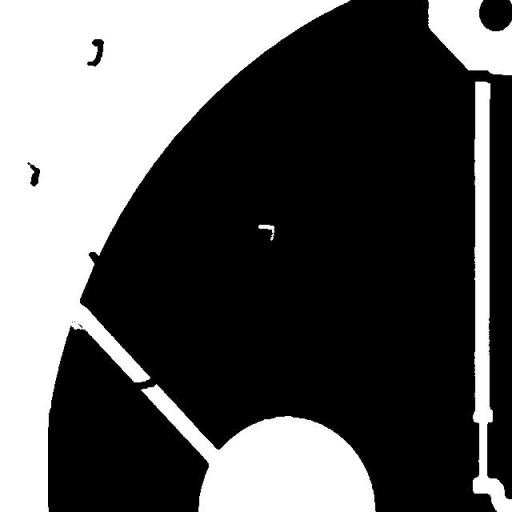copper: (79, 31, 111, 74), (19, 154, 47, 194)
mousebite: (62, 310, 92, 336)
pin-hole: (250, 217, 282, 248)
short: (456, 62, 506, 92), (123, 369, 163, 397)
spur: (80, 244, 110, 272)
